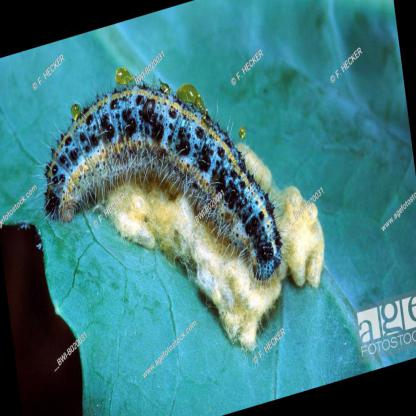pieris: (42, 83, 285, 287)
